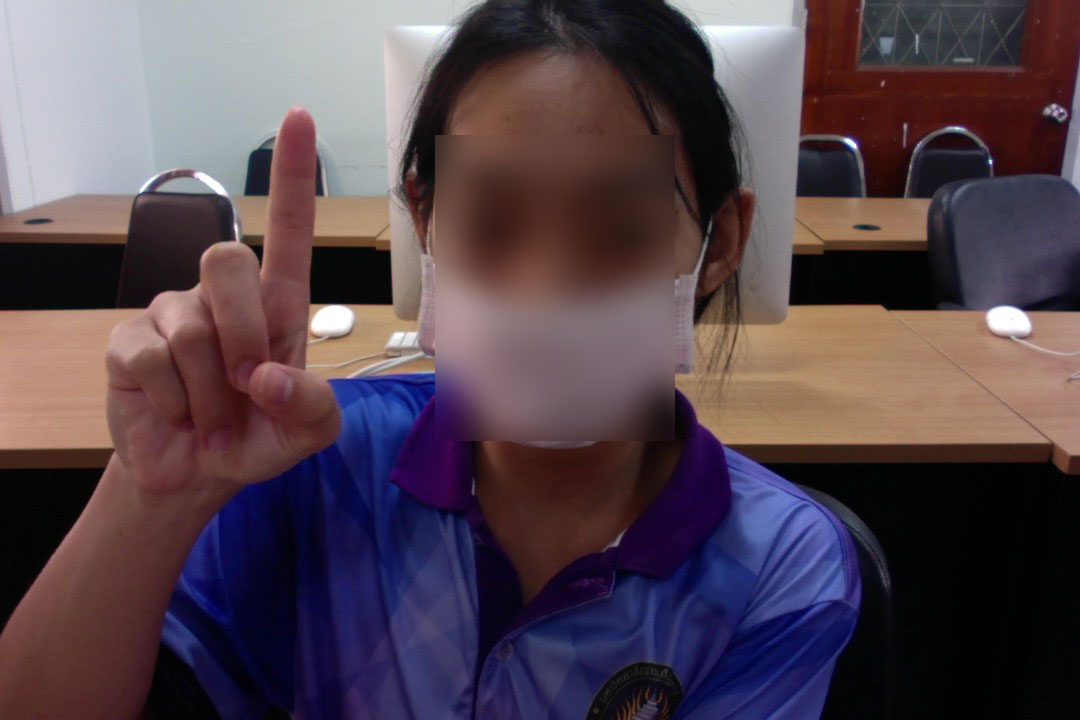dor: (79, 93, 345, 495)
